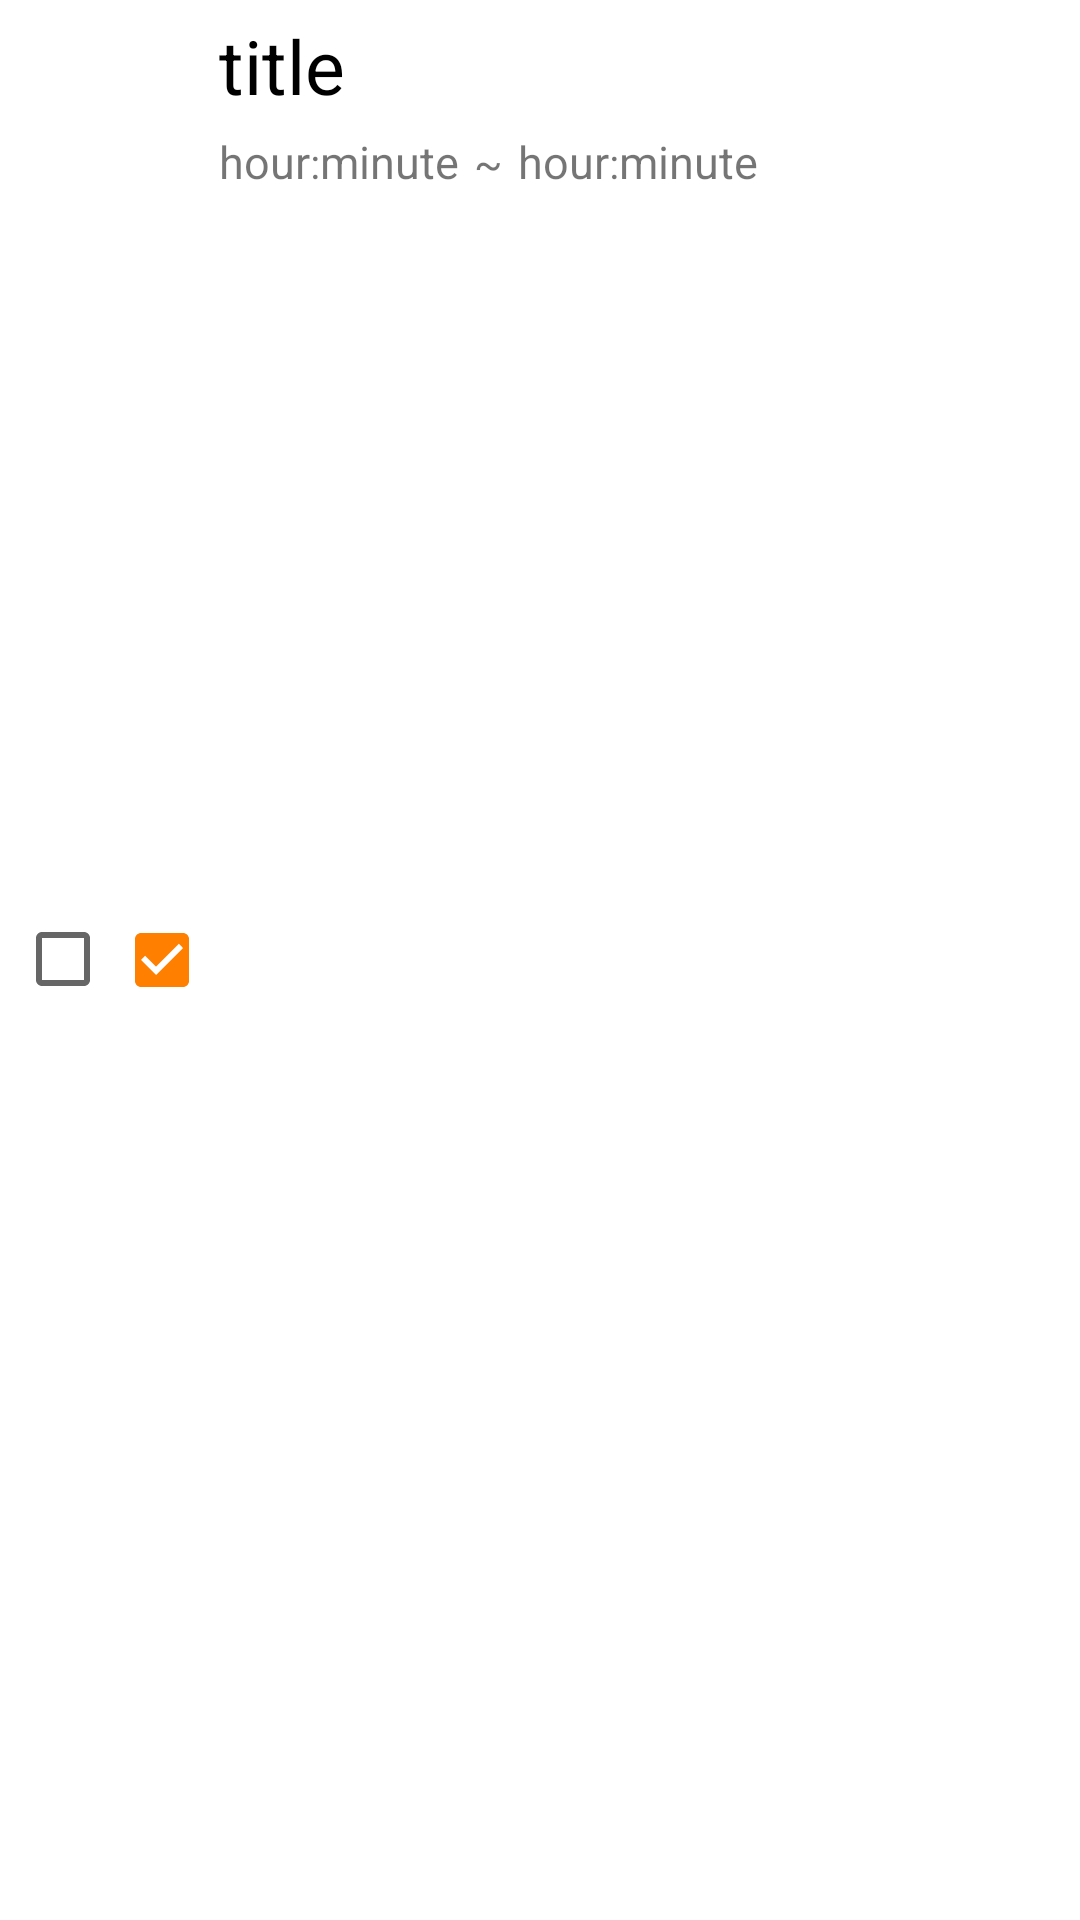

Icon click points for this 1080w x 1920h phone screenshot, format [x,y]:
checkboxpick: [162,960]
